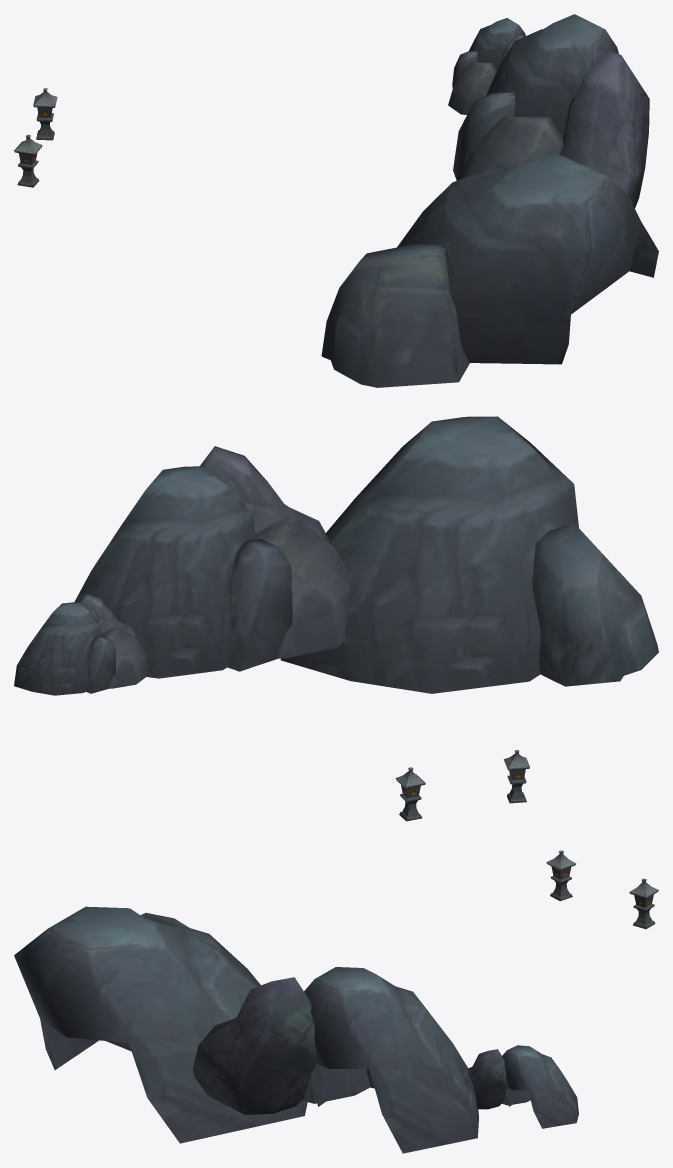
File: Area_13_21.fbx
3 renders of one model, top to bottom at view 1: azimuth 30°, elevation 25°; view 2: azimuth 150°, elevation 25°; view 3: azimuth 270°, elevation 25°, orthographic. The views are drawn at different scales.
Parts seen in each view (by area): view 1: Area_13_21; view 2: Area_13_21; view 3: Area_13_21.
Boxes of the visible parts, left/top/right/bottom form: Area_13_21: left=14, top=14, right=658, bottom=387; Area_13_21: left=14, top=416, right=658, bottom=821; Area_13_21: left=14, top=850, right=658, bottom=1153.
Size of the model in its own units: 2678 by 868 by 2934.
